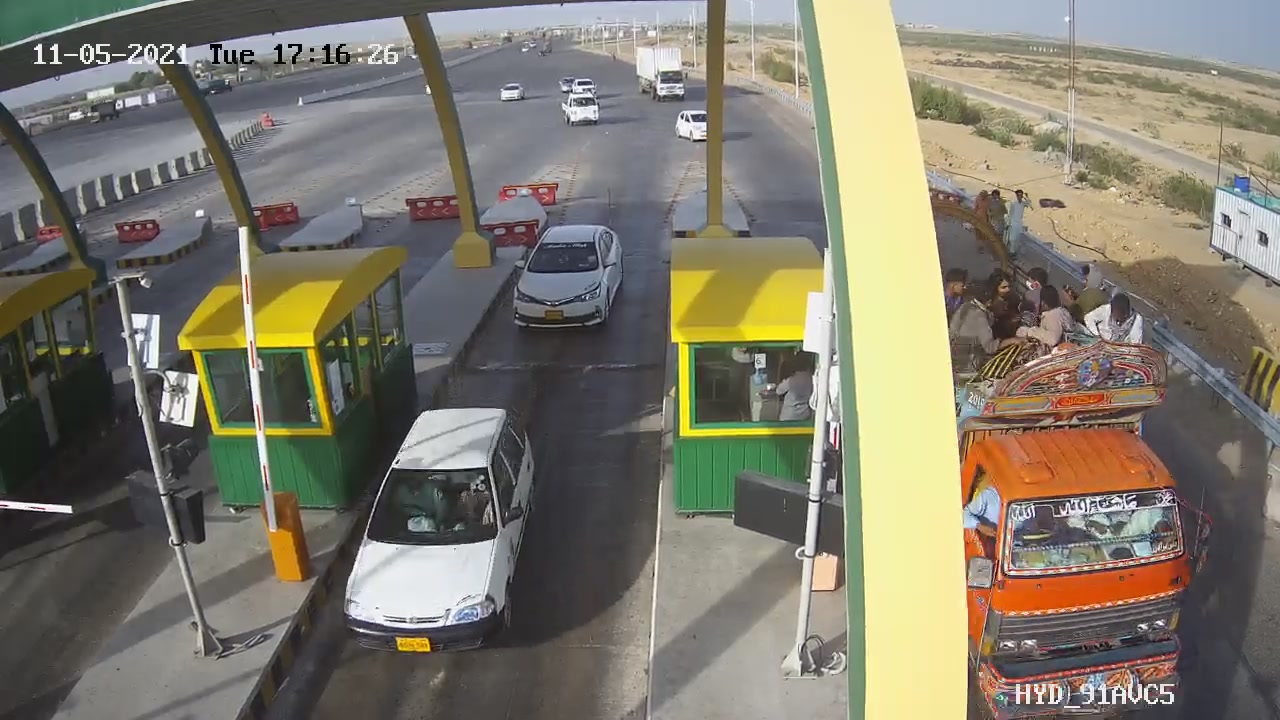F1: (494, 212, 639, 351)
